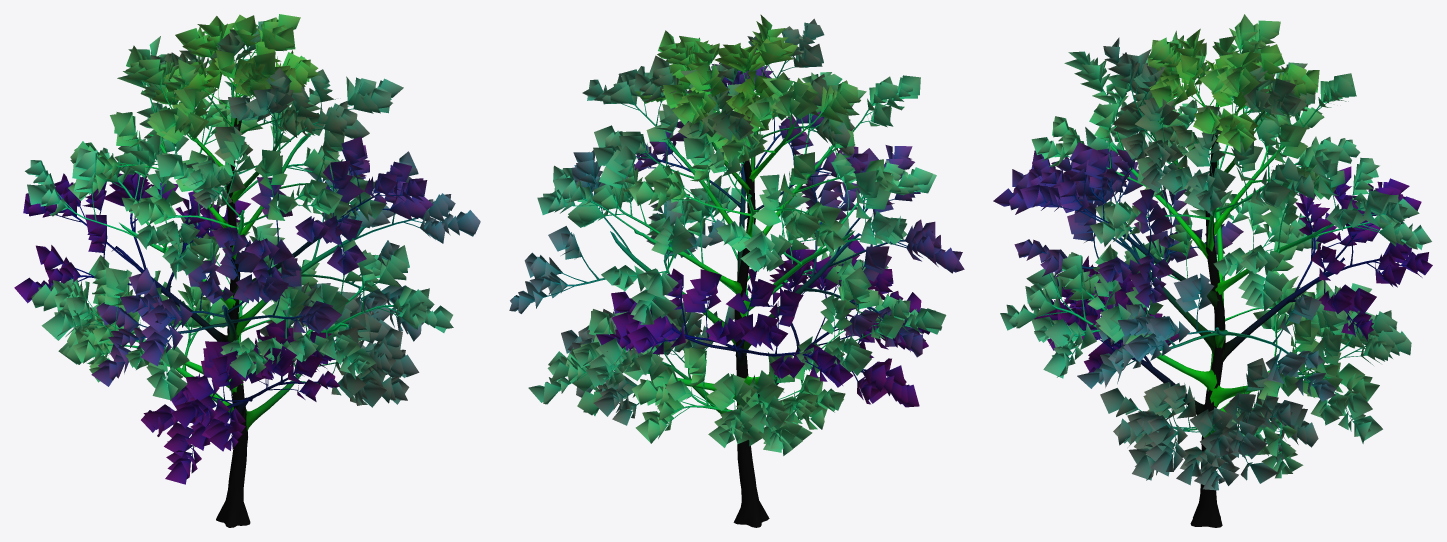
Rendered from TestTree.fbx.
3 renders of one model, left to right at view 1: azimuth 30°, elevation 25°; view 2: azimuth 150°, elevation 25°; view 3: azimuth 270°, elevation 25°, orthographic.
Parts seen in each view (by area): view 1: leaf maple_1, bark02_0; view 2: leaf maple_1, bark02_0; view 3: leaf maple_1, bark02_0.
Part boxes in pixels (x1,y1,x2,y2): leaf maple_1: [14, 14, 480, 484]; bark02_0: [46, 42, 427, 527]; leaf maple_1: [509, 14, 964, 455]; bark02_0: [532, 57, 938, 527]; leaf maple_1: [993, 14, 1432, 490]; bark02_0: [1040, 43, 1405, 527].
Size of the model in its own units: 660 by 754 by 617.
